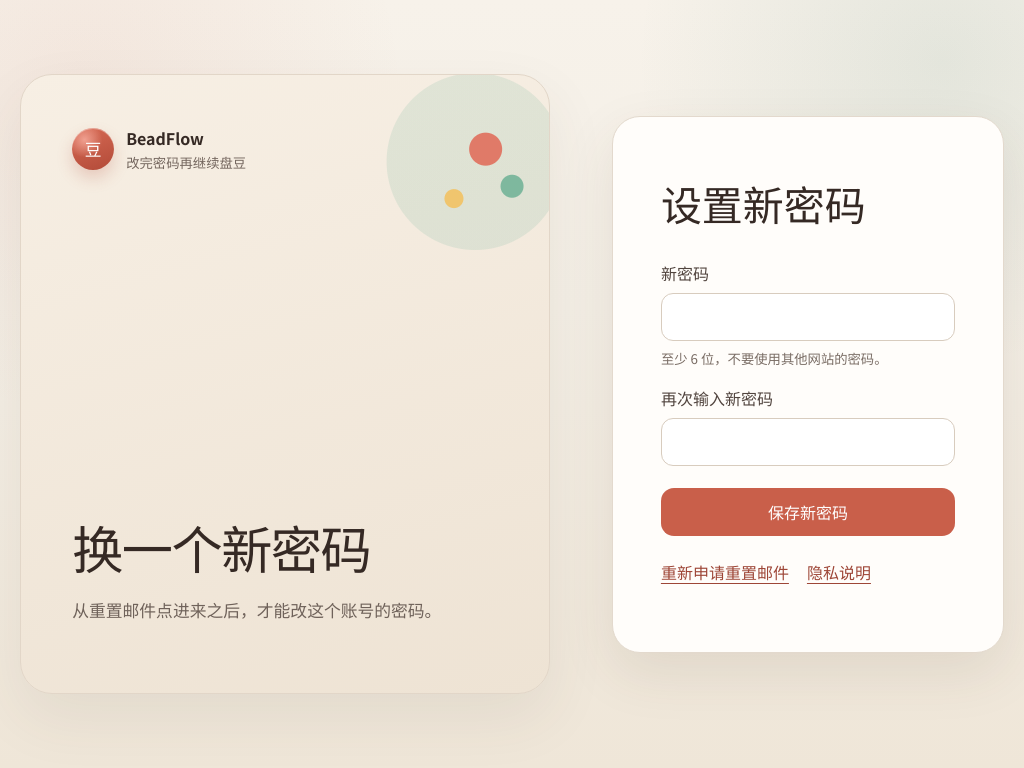
it: authenticated application shell › does not report password-update failure when only automatic sign-out fails
This screenshot has width=1024, height=768.
Expected: the heading "设置新密码" is shown, 661,172 -> 866,232
Type "new-safe-password" into the password field labelled "新密码 至少 6 位，不要使用其他网站的密码。" at (808, 316), box 661,292 -> 955,340
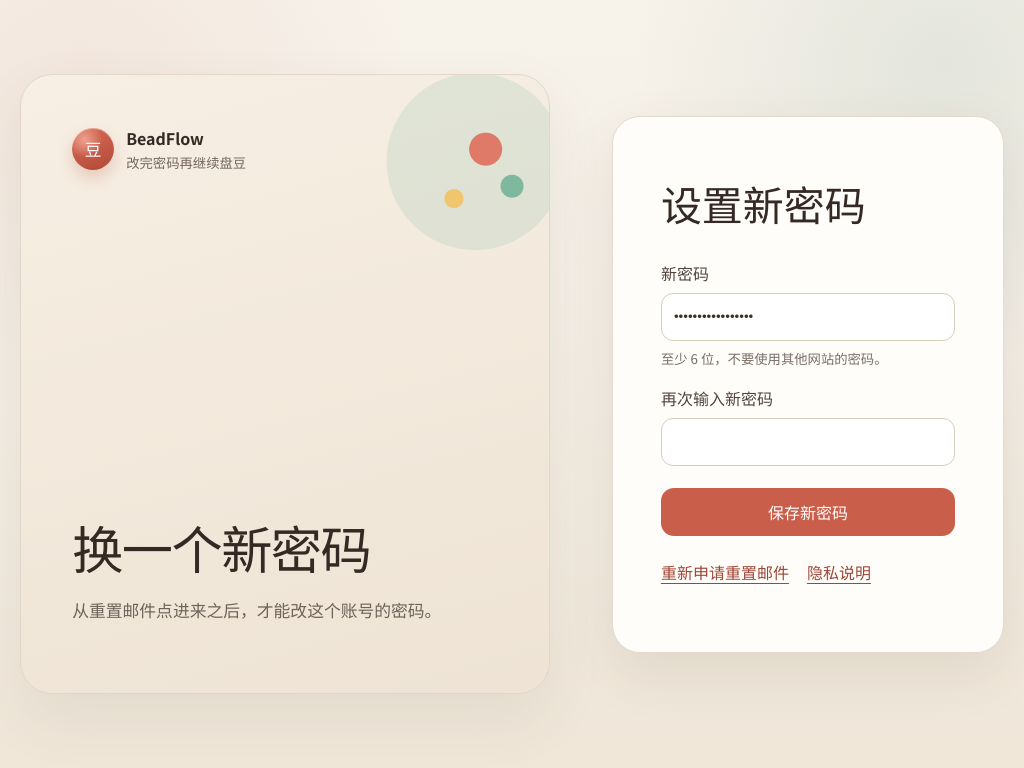
Type "new-safe-password" into the password field labelled "再次输入新密码" at (808, 442), box 661,418 -> 955,466
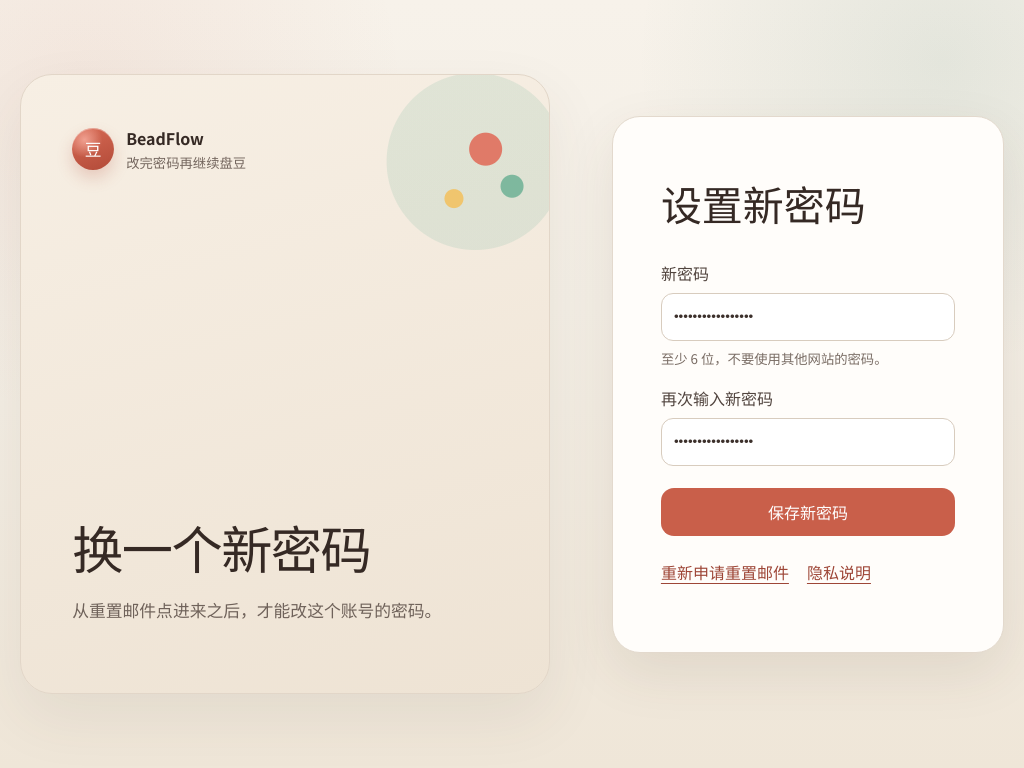
Click the button "保存新密码" at (808, 512), box 661,488 -> 955,536
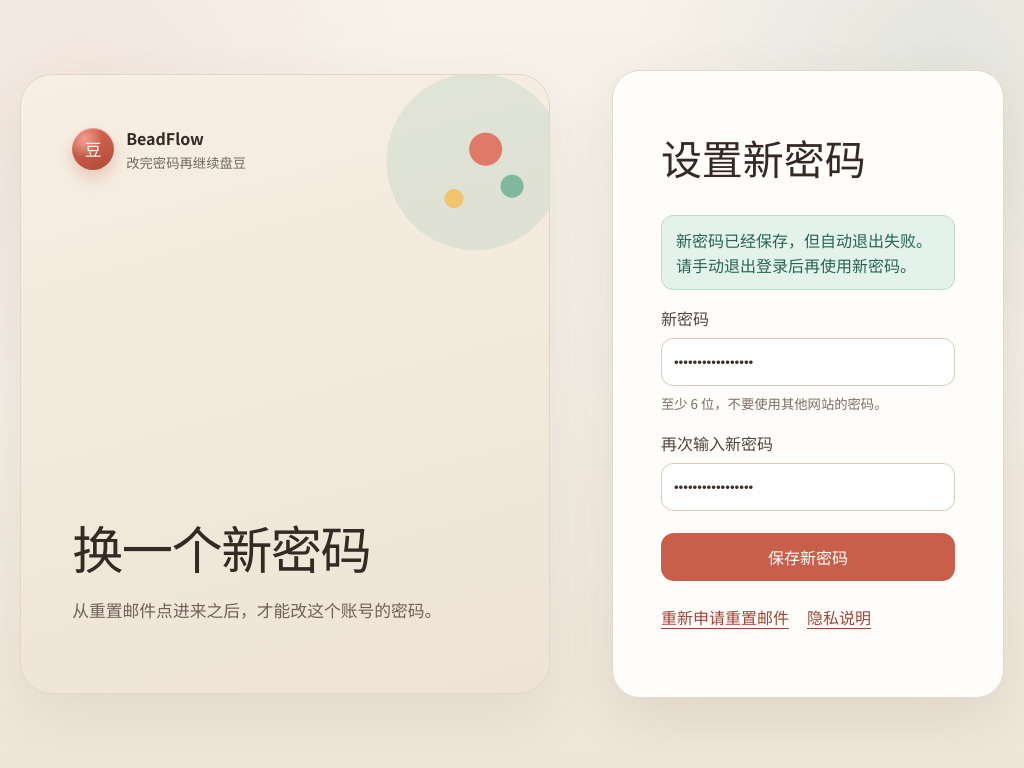
Expected: the message shows "新密码已经保存", 676,228 -> 932,276
